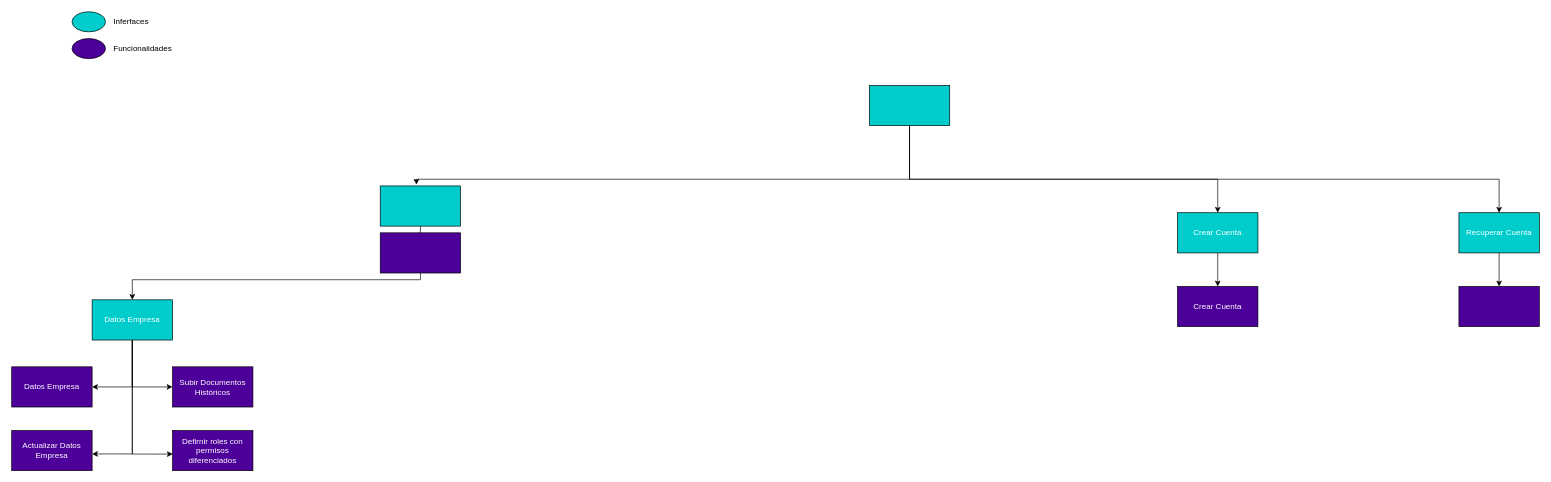
The diagram is 1551 pixels wide and 482 high, and some of its shapes have lost their labels. The shapes that lost their labels are listed below. From the top down, each one's centre as x and y in pixels, then its label:
[909,105]: Sistema
[420,205]: Inicio Sesión
[420,252]: iniciar sesión
[1498,306]: Reestablecer contraseña
